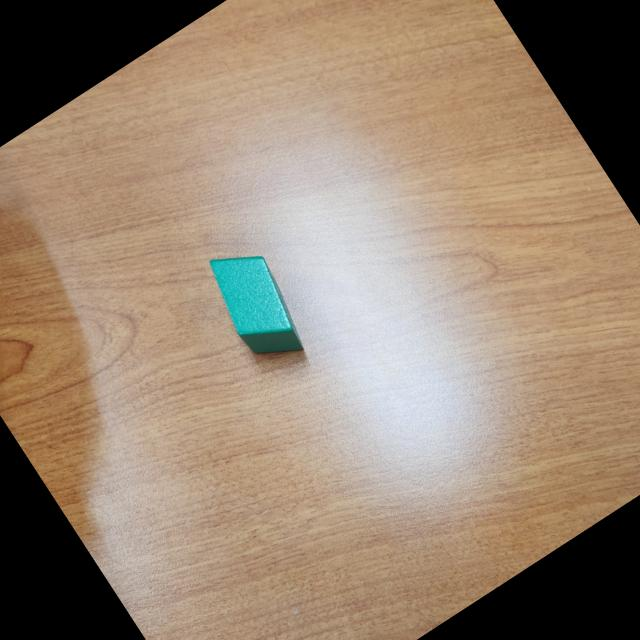green: (195, 233, 318, 375)
